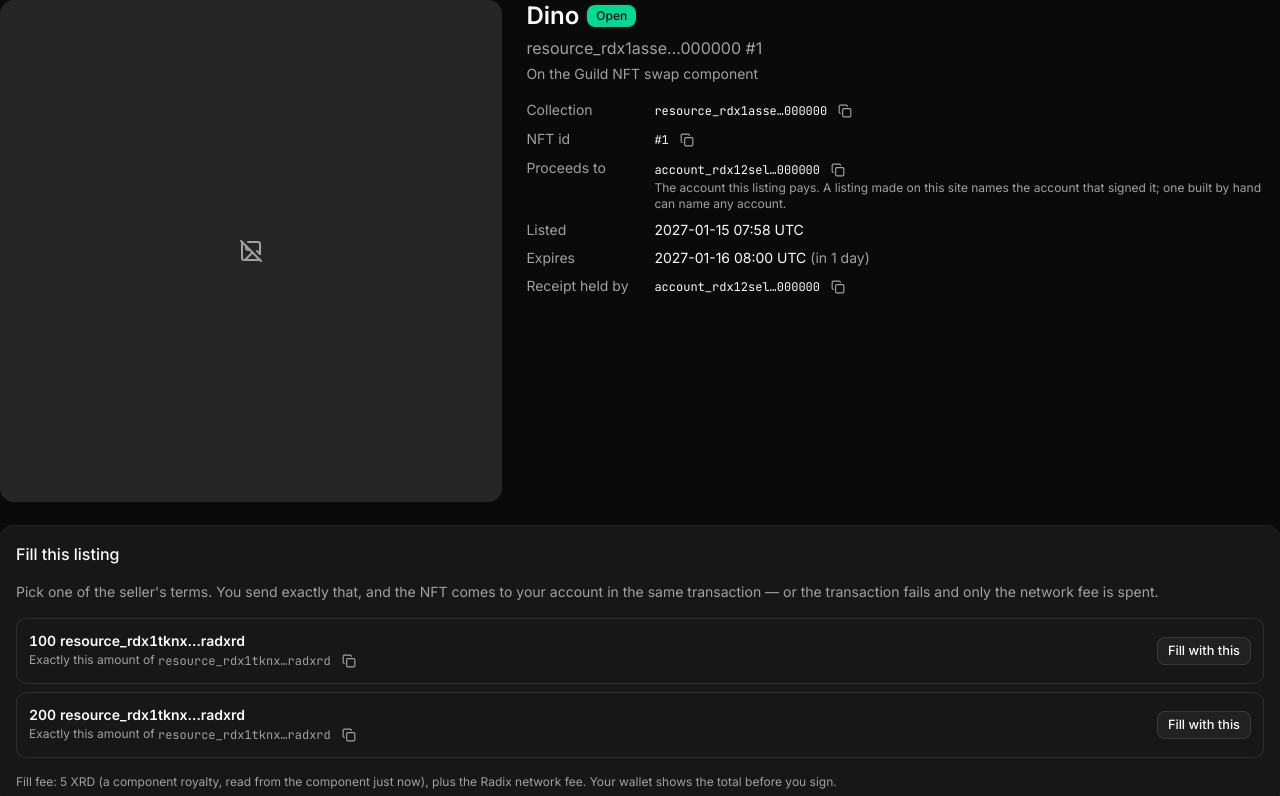
Test: short addresses › keeps the collection's FULL address in the Fill confirmation, where the buyer compares it before signing
Click the button "Fill with this" in the row of "100 resource_rdx1tknx…radxrd": coordinates (1204, 651) [1157,637,1251,665]
(page scrolled)
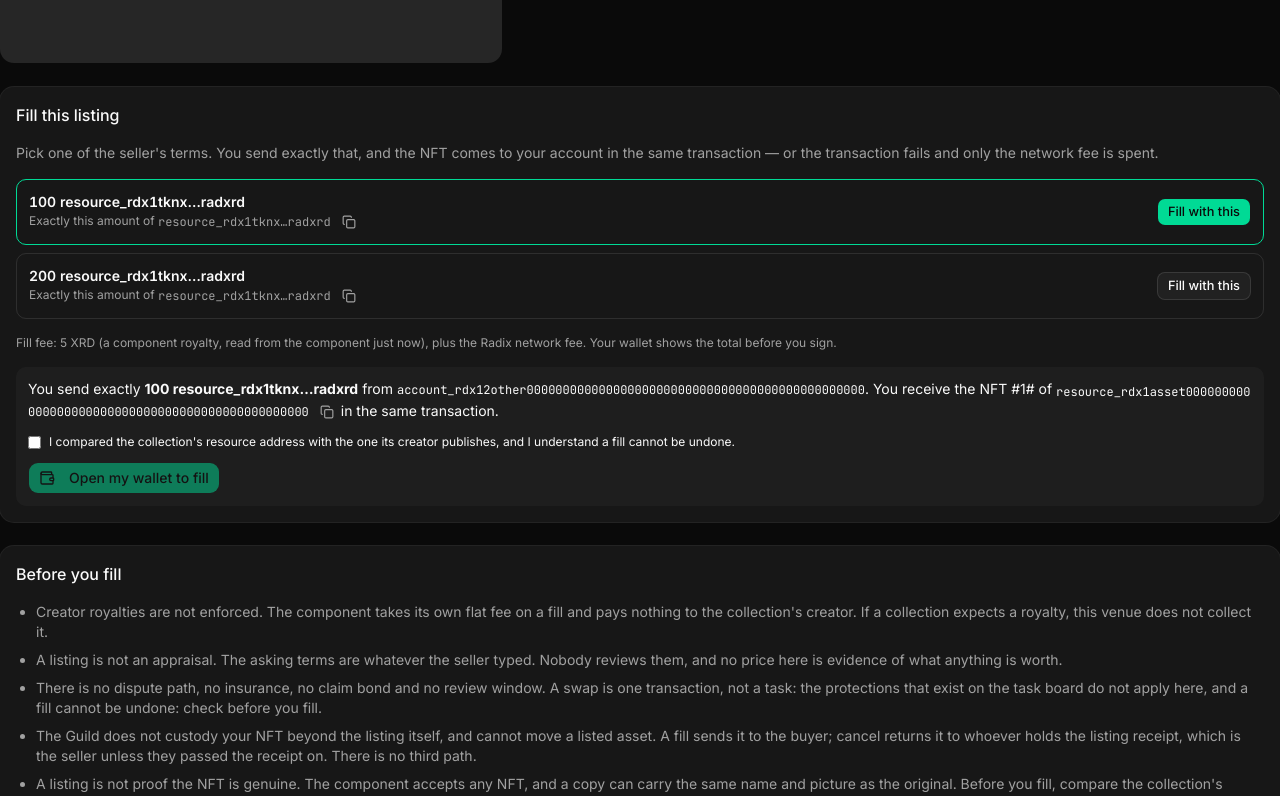
Expected: the text "You receive the NFT" shows "resource_rdx1asset000000000000000000000000000000000000000000000000", [28,384,1250,420]
Expected: the text "You receive the NFT" shows "account_rdx12other00000000000000000000000000000000000000000000000", [397,382,865,398]
